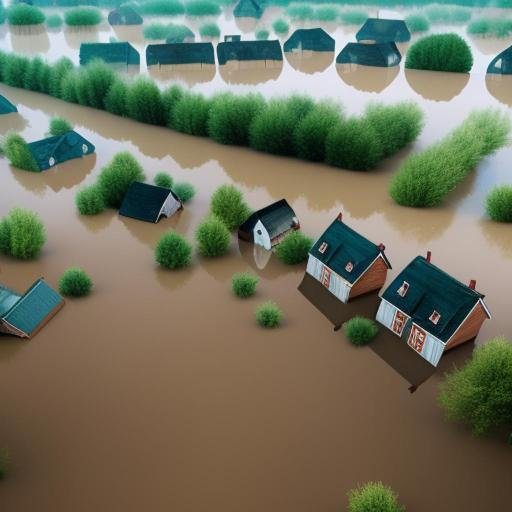flood: (0, 4, 512, 512), (293, 0, 512, 19), (38, 6, 68, 17), (2, 0, 10, 7)
house: (379, 252, 485, 372), (310, 215, 384, 307), (3, 275, 63, 340), (238, 196, 298, 254), (115, 182, 178, 226), (485, 36, 511, 102), (282, 26, 336, 56), (356, 16, 411, 42)
